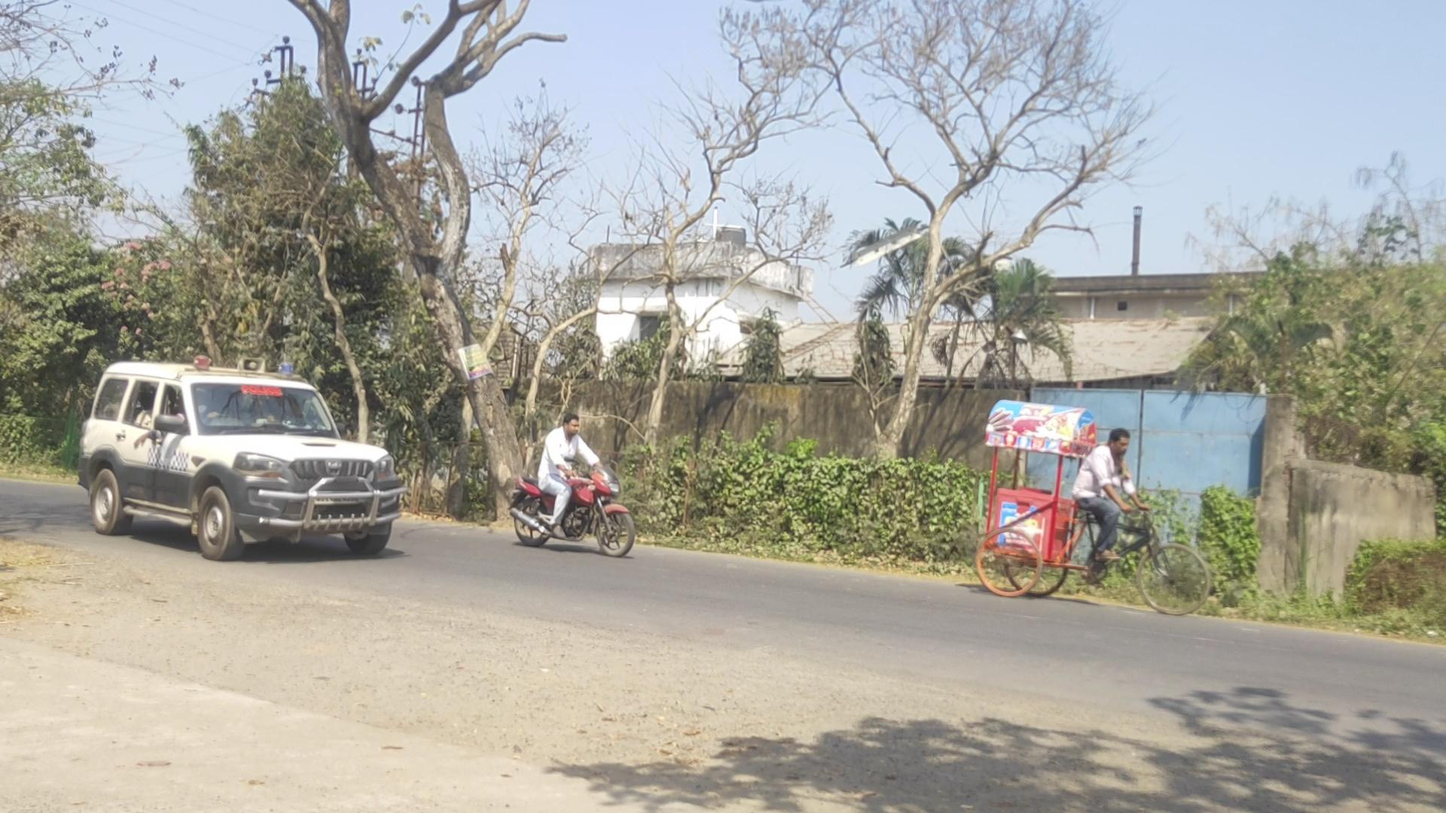bike: (508, 413, 635, 558)
car: (78, 355, 407, 562)
